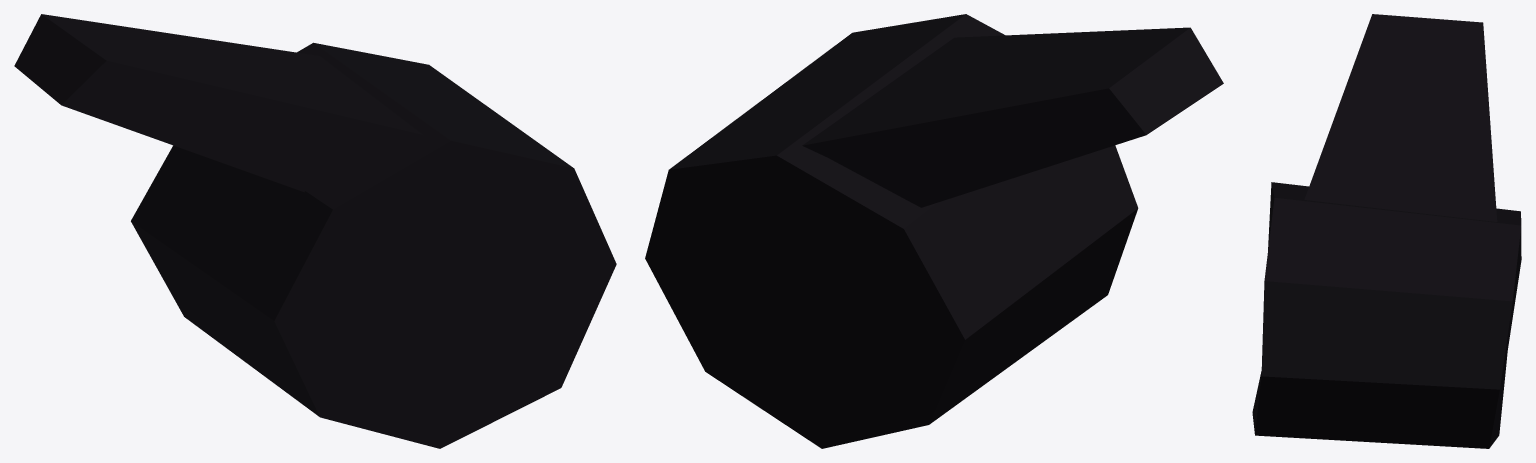
The model's file is whistle.fbx.
3 renders of one model, left to right at view 1: azimuth 30°, elevation 25°; view 2: azimuth 150°, elevation 25°; view 3: azimuth 270°, elevation 25°, orthographic. The views are drawn at different scales.
Visible parts, largest first — view 1: whistle; view 2: whistle; view 3: whistle.
Part boxes in pixels (x1=…): whistle: x1=14, y1=14, x2=616, y2=448; whistle: x1=645, y1=14, x2=1223, y2=448; whistle: x1=1252, y1=14, x2=1521, y2=448.
Size of the model in its own units: 0.0529 by 0.0331 by 0.0433.
